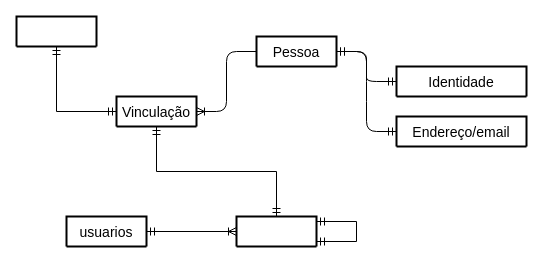
This 543x263 diagram has some shape labels left out. The centre of each missing label's shape, as x and y in pixels:
Função: pixel 56 31
Setor: pixel 276 231
